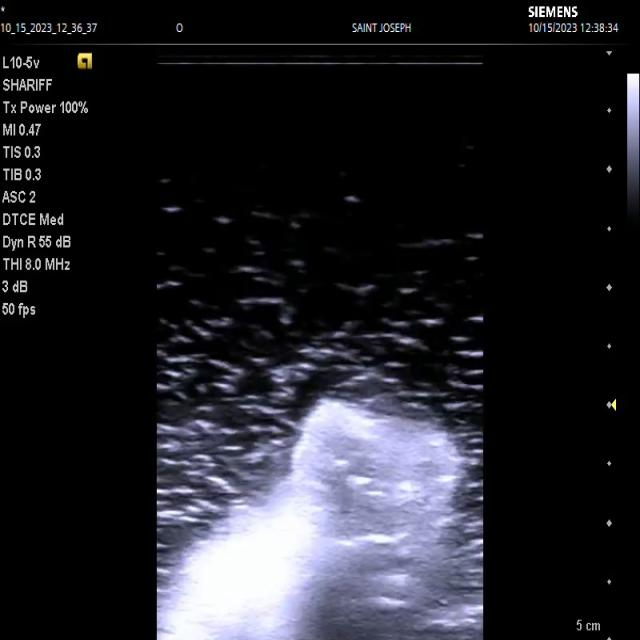tissue: (160, 401, 456, 640)
